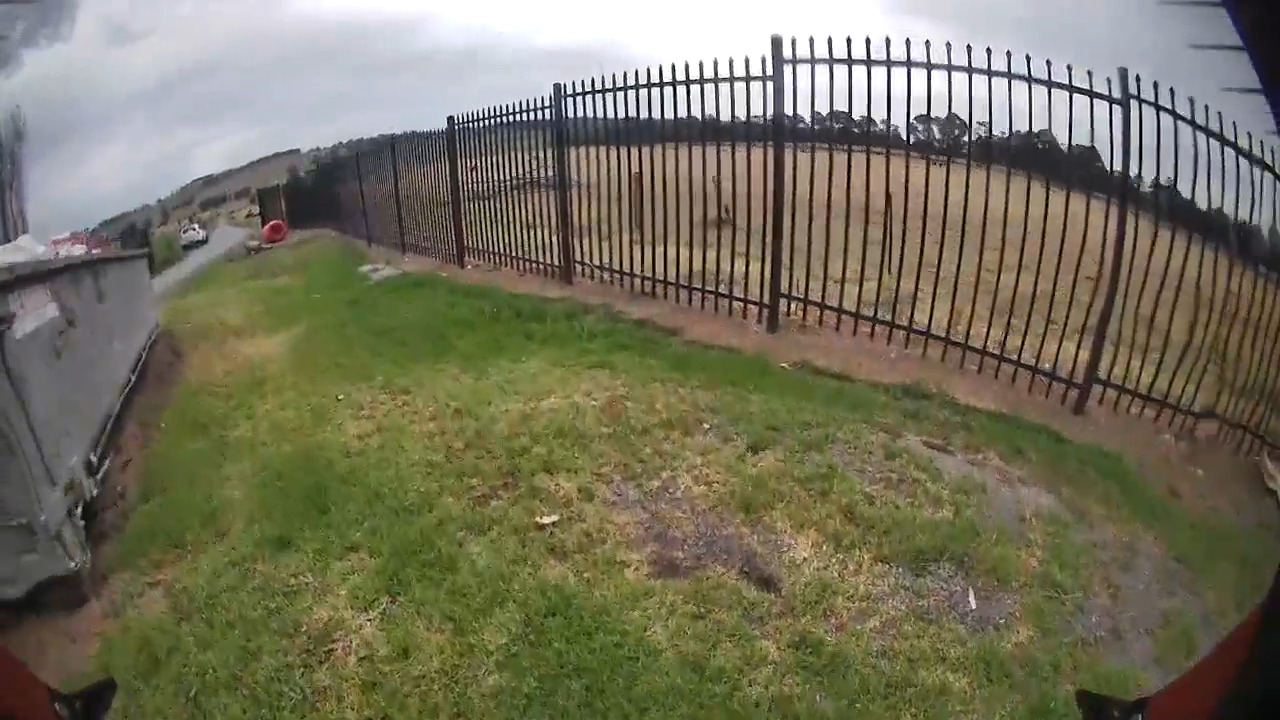Car: (181, 223, 207, 249)
